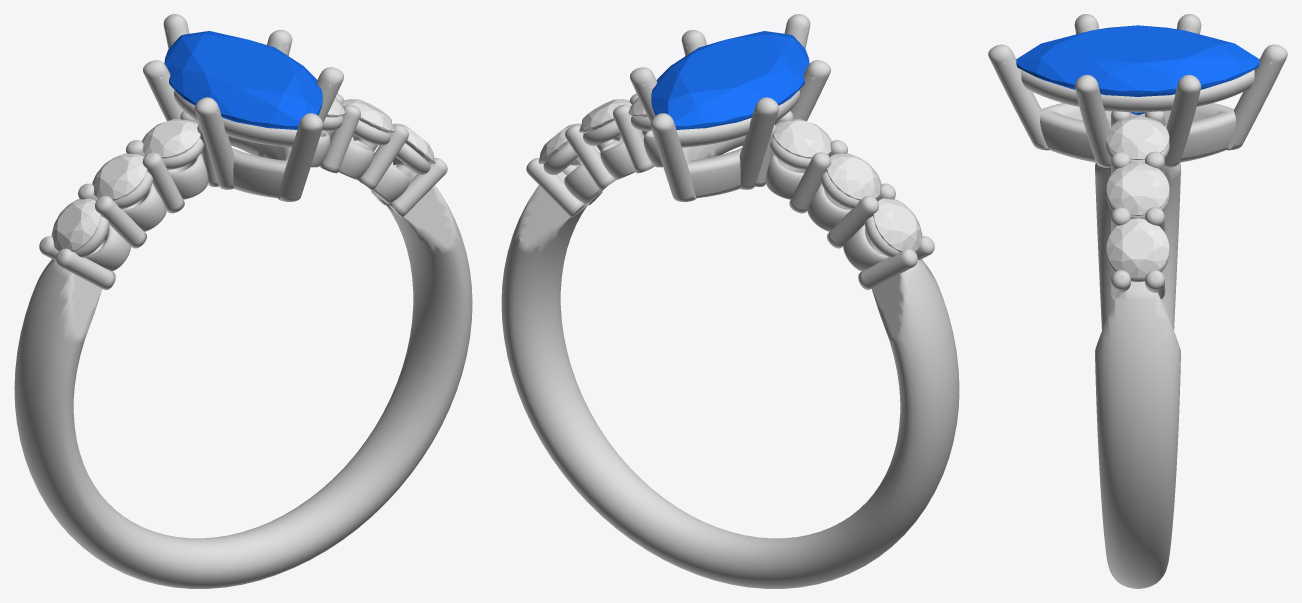
Rendered from bluesapphire-marquise-platinum-6prong-taperedband-7stone.glb.
3 renders of one model, left to right at view 1: azimuth 30°, elevation 25°; view 2: azimuth 150°, elevation 25°; view 3: azimuth 270°, elevation 25°, orthographic.
Visible parts, largest first — view 1: metal.001, stone, dia, dia.003, dia.004, dia.006, dia.005; view 2: metal.001, stone, dia, dia.003, dia.004, dia.006, dia.005; view 3: metal.001, stone, dia.005, dia.006, dia.007.
Boxes of the visible parts, box(x1,y1,x2,y2) form: metal.001: box(14, 14, 472, 588); stone: box(164, 31, 322, 129); dia: box(51, 198, 100, 251); dia.003: box(92, 153, 147, 200); dia.004: box(141, 119, 200, 158); dia.006: box(342, 99, 394, 140); dia.005: box(392, 123, 435, 165); metal.001: box(501, 14, 959, 588); stone: box(651, 31, 809, 129); dia: box(873, 198, 922, 251); dia.003: box(826, 153, 881, 200); dia.004: box(773, 119, 832, 158); dia.006: box(579, 99, 631, 140); dia.005: box(538, 123, 581, 165); metal.001: box(988, 14, 1287, 588); stone: box(1016, 25, 1259, 115); dia.005: box(1106, 218, 1169, 278); dia.006: box(1106, 162, 1169, 215); dia.007: box(1106, 116, 1169, 160).
Bounding box in the file's own units: 20.5 × 22.92 × 11.96.
